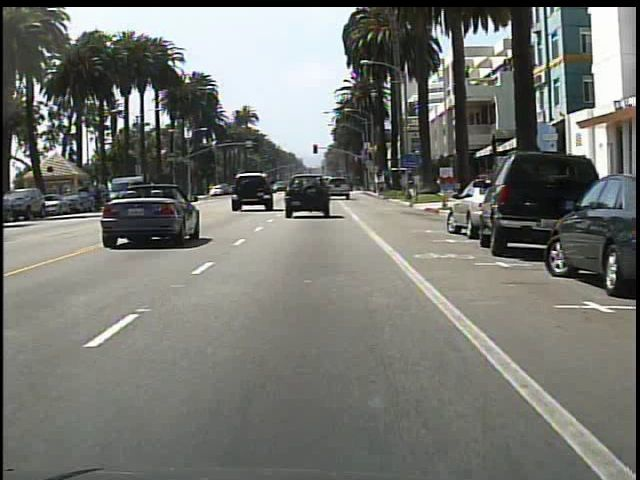person: (87, 178, 107, 214)
